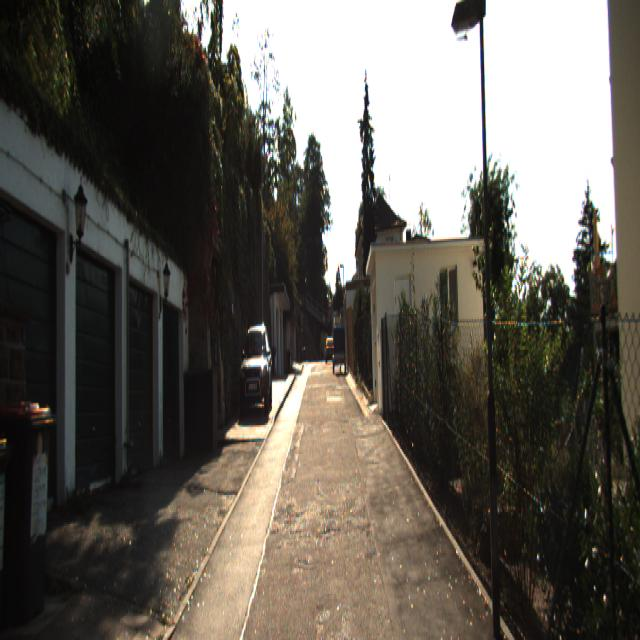Car: (238, 327, 273, 417)
DontCare: (325, 332, 333, 361)
Misc: (332, 324, 347, 374)
